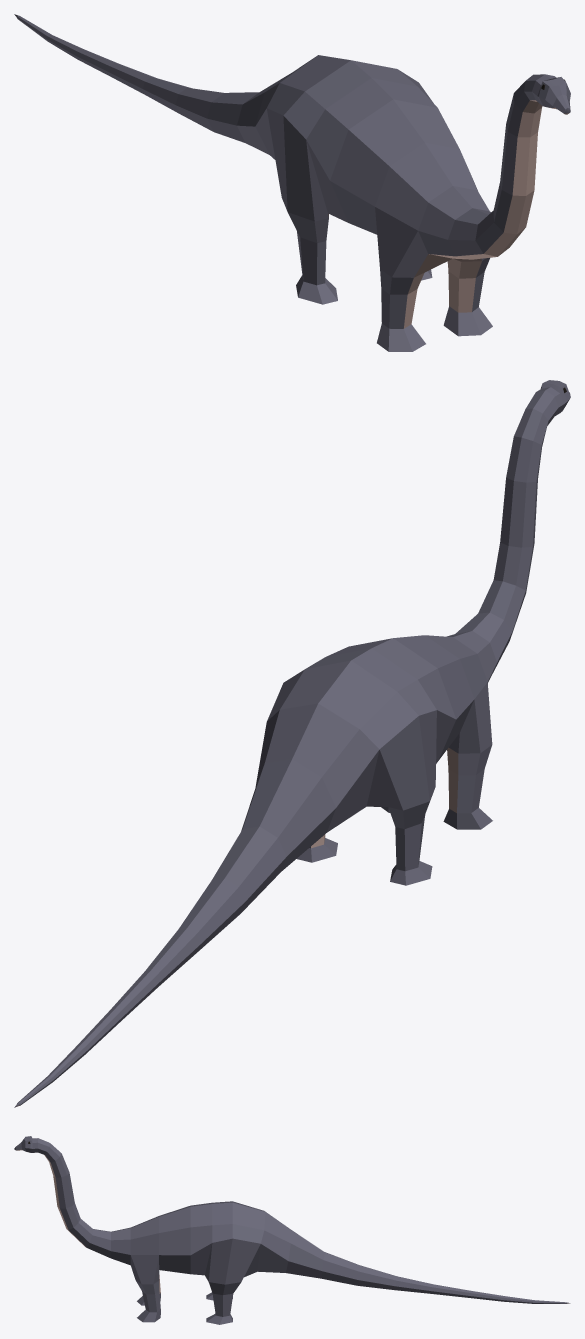
The model's file is Mesh_Diplodocus.gltf.
3 views of the same model, one above another, from view 1: azimuth 30°, elevation 25°; view 2: azimuth 150°, elevation 25°; view 3: azimuth 270°, elevation 25° (orthographic). The views are drawn at different scales.
Parts seen in each view (by area): view 1: node-0; view 2: node-0; view 3: node-0.
Boxes of the visible parts, x1,y1,x2,y2 form: node-0: (14,14,570,351); node-0: (14,380,570,1107); node-0: (14,1136,570,1324).
Bounding box in the file's own units: 298 × 685 × 2018.
Materials: 1 (1 with a texture image).
